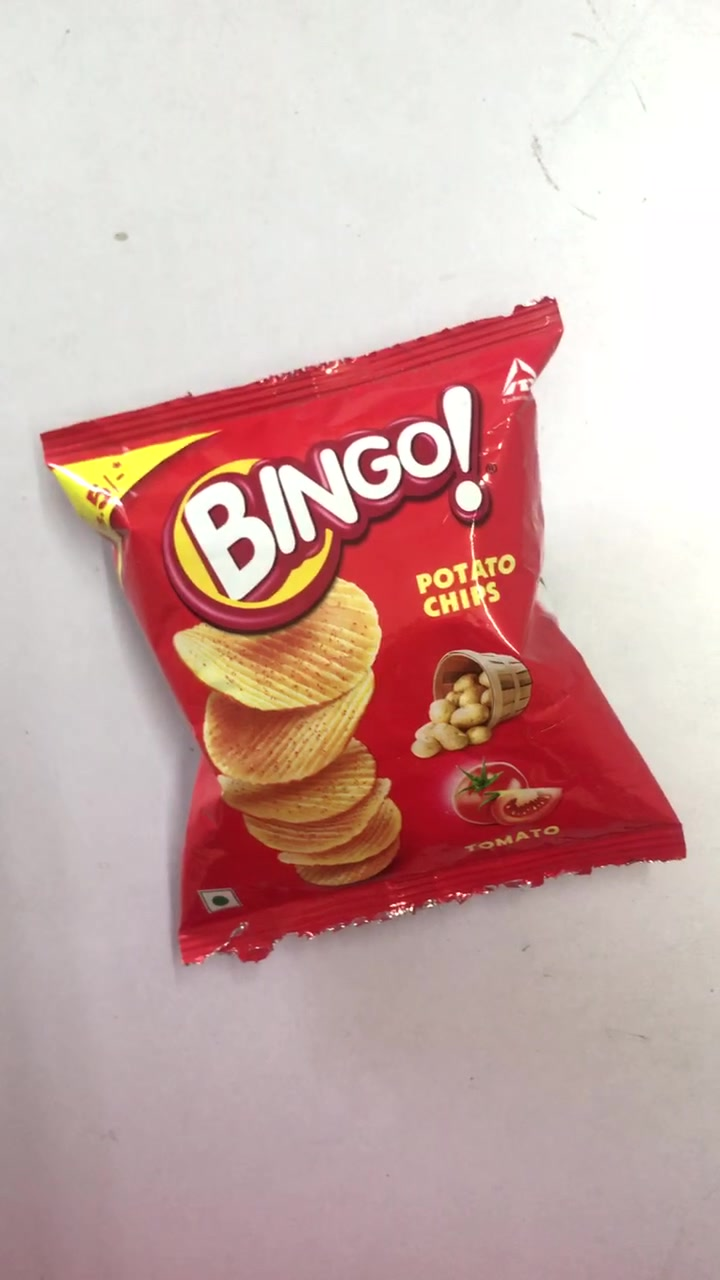Bingo: (44, 327, 681, 925)
